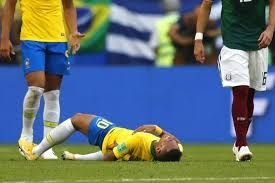falling: (14, 102, 182, 163)
